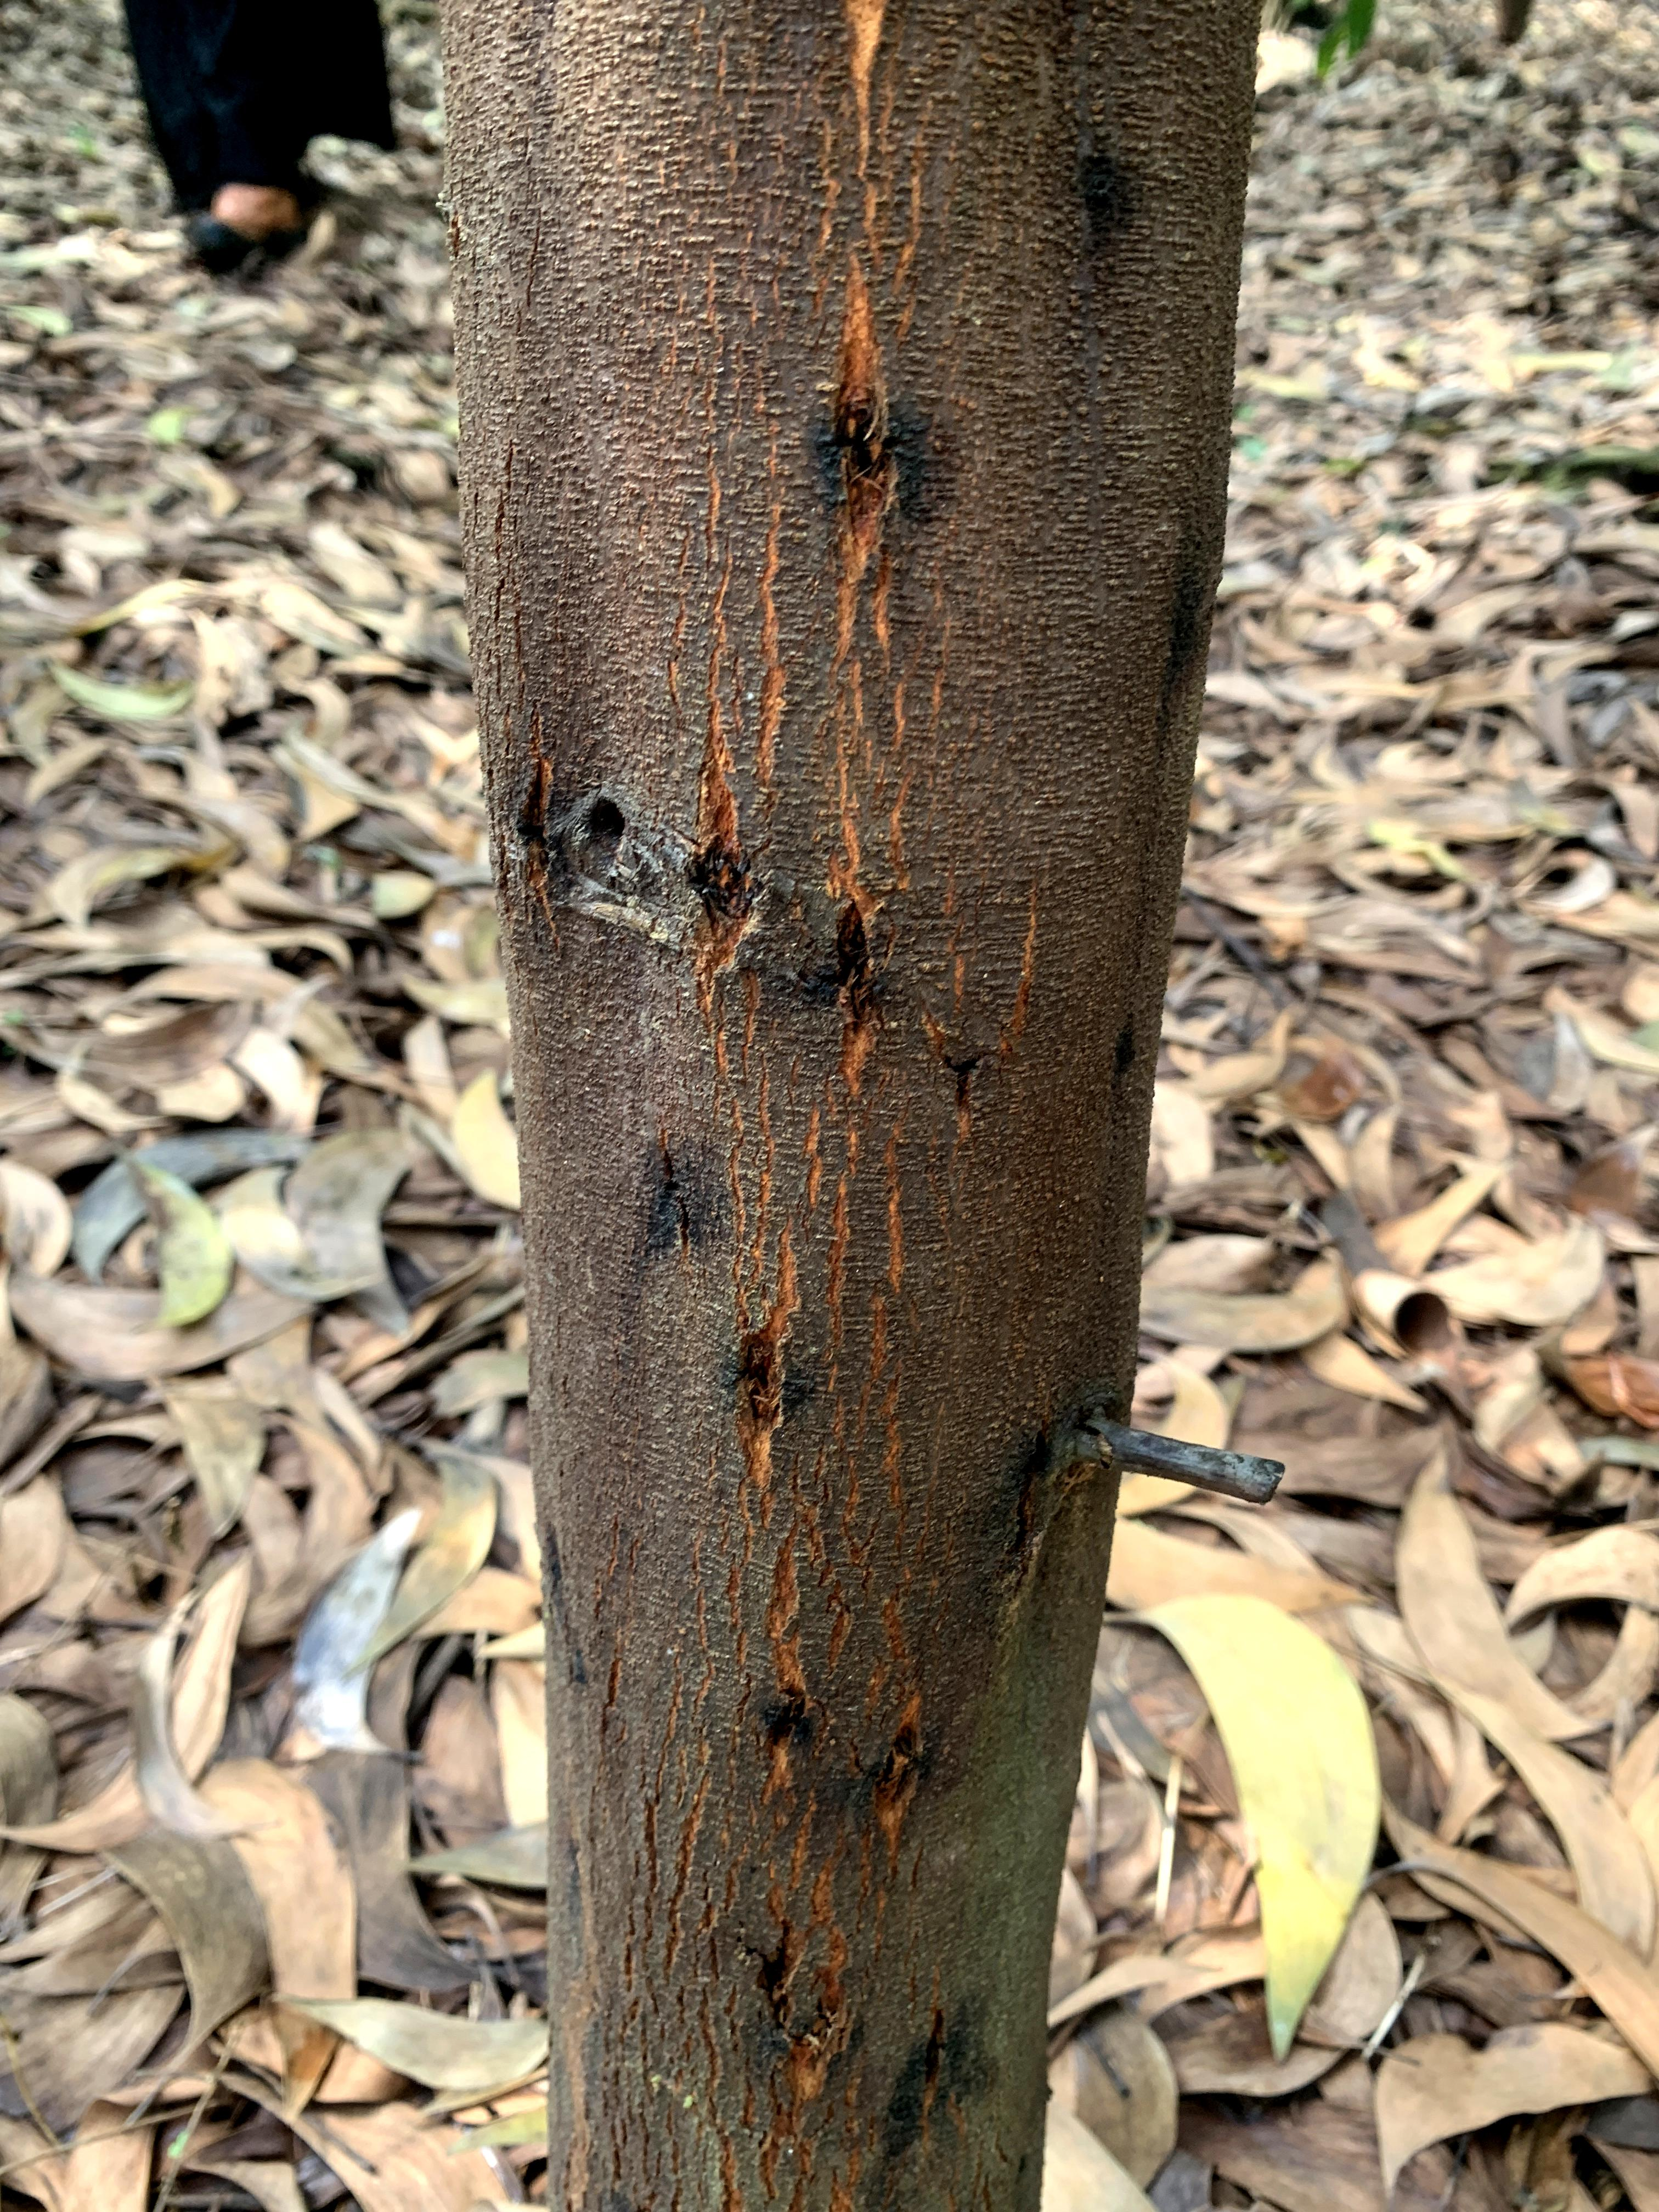Stem Borer: (464, 733, 903, 1052), (806, 363, 946, 532), (723, 1933, 883, 2075), (918, 991, 1026, 1136), (618, 1138, 727, 1271), (729, 1325, 834, 1458), (726, 1657, 855, 1759), (1061, 128, 1162, 257), (878, 1711, 949, 1864), (1092, 991, 1162, 1105), (908, 2000, 969, 2109)
